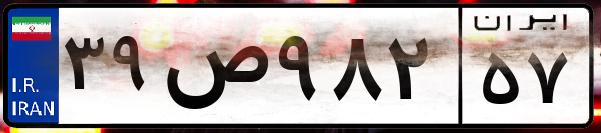2: (385, 28, 445, 110)
3: (57, 26, 110, 100)
5: (475, 38, 525, 113)
7: (525, 38, 570, 115)
8: (330, 28, 385, 110)
9: (270, 28, 330, 110), (110, 28, 158, 98)
ص: (158, 20, 270, 120)
